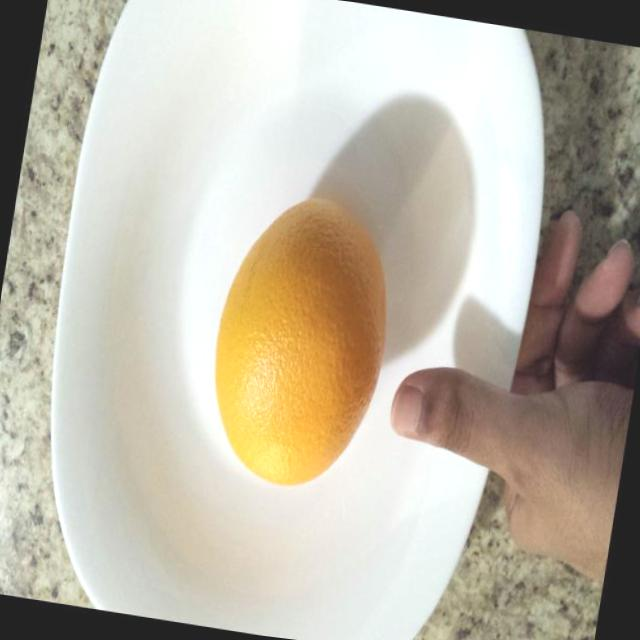Finger: (380, 340, 490, 470)
Orange: (178, 169, 410, 522)
